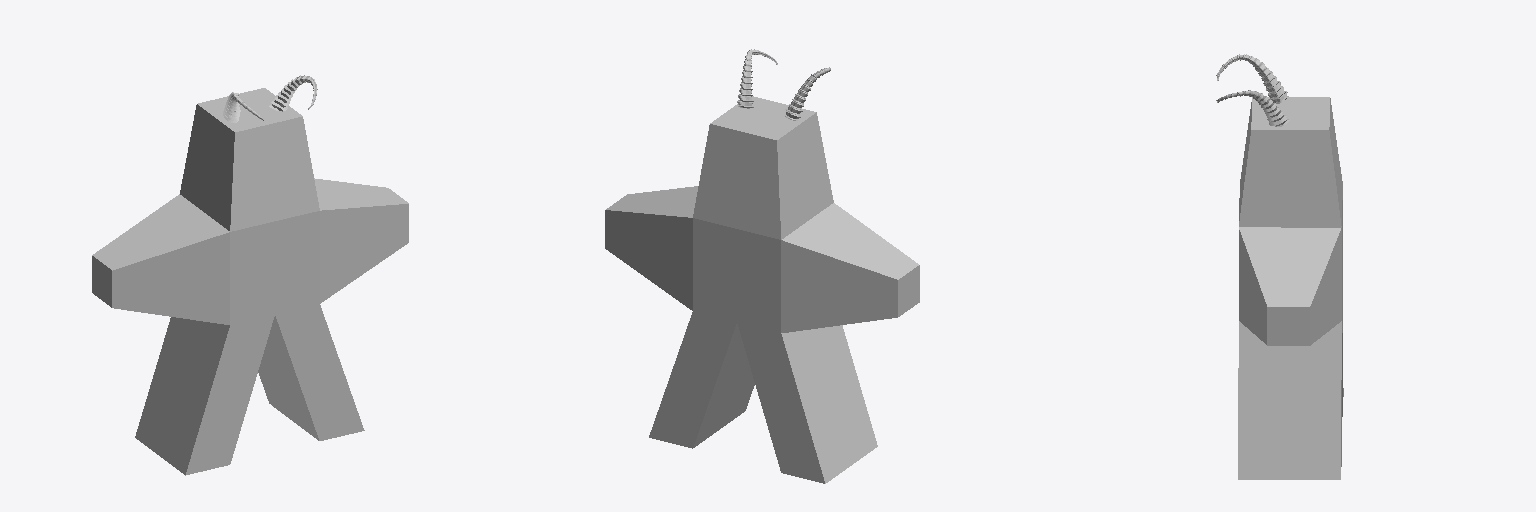
Rendered from DragonFolk.obj.
The picture shows the model from 3 angles: view 1: azimuth 30°, elevation 25°; view 2: azimuth 150°, elevation 25°; view 3: azimuth 270°, elevation 25°; orthographic projection.
Visible parts, largest first — view 1: Cube, Circle; view 2: Cube, Circle; view 3: Cube, Circle.
Part boxes in pixels (x1,y1,x2,y2): Cube: (92,88,408,475); Circle: (223,75,317,122); Cube: (605,96,919,483); Circle: (737,49,830,120); Cube: (1238,97,1343,479); Circle: (1216,54,1289,126).
Bounding box in the file's own units: 6.61 × 7.84 × 2.47.